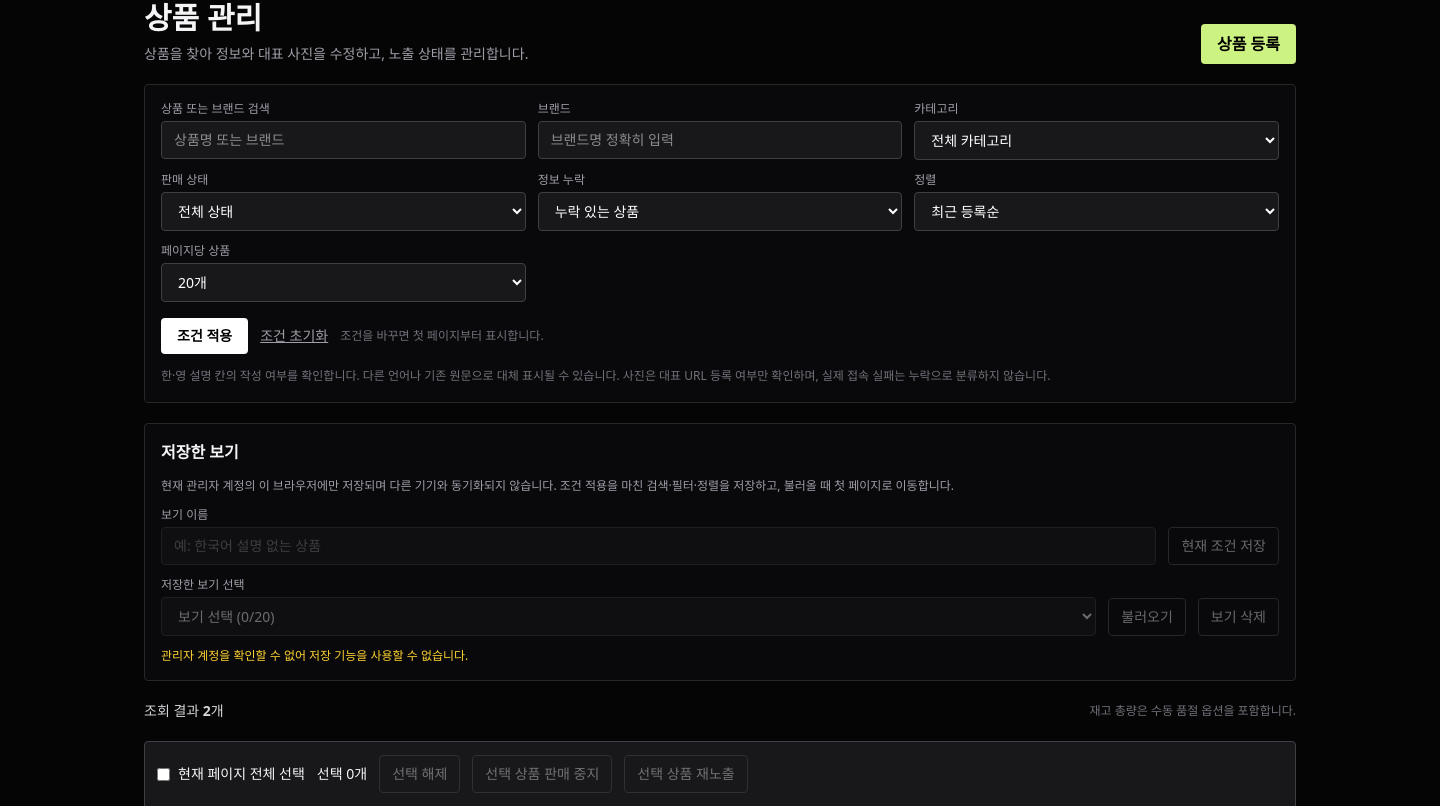
Test: bulk visibility workflow › requires confirmation and cancellation never writes
Click the checkbox labelled "현재 페이지 전체 선택" at (164, 774), box [157,768,170,780]
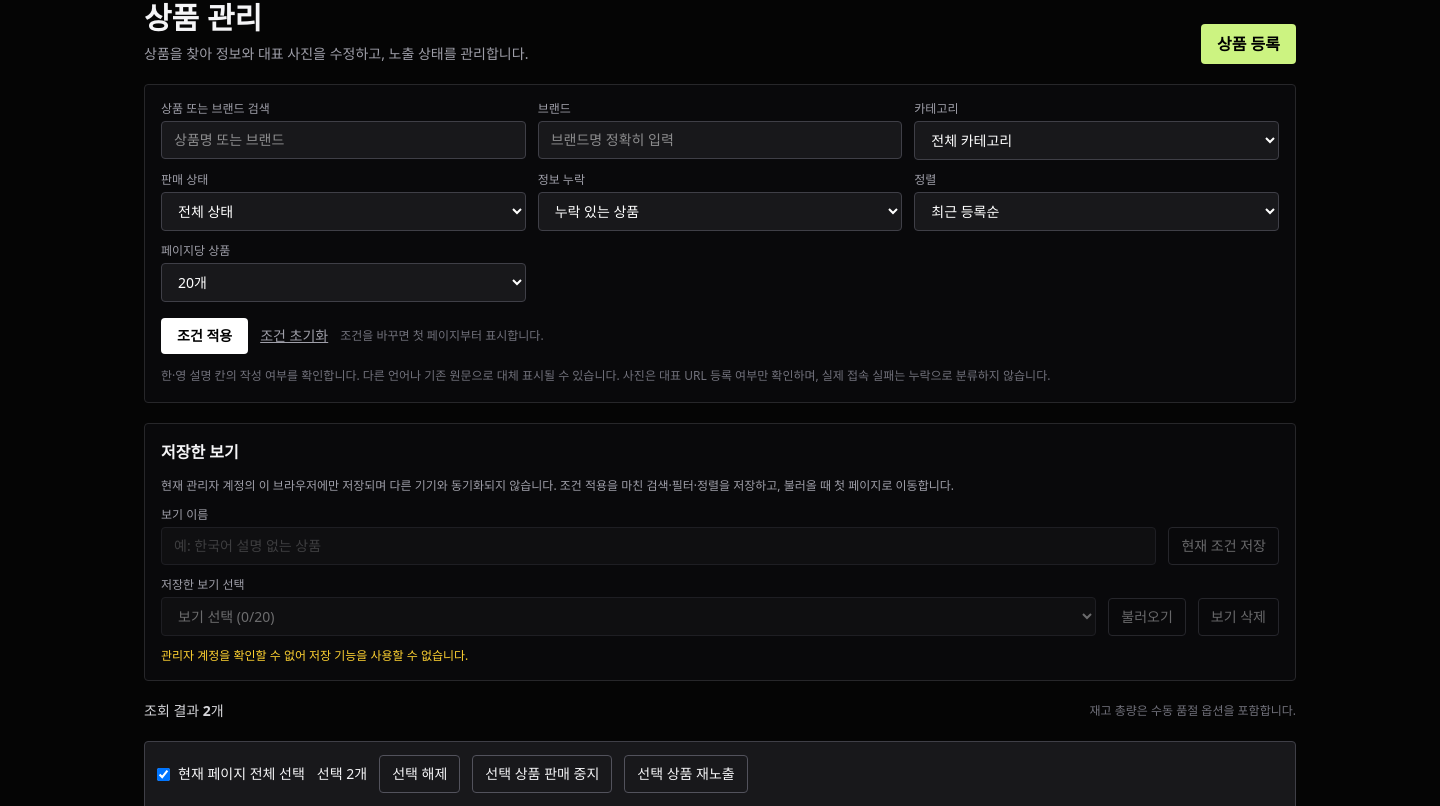
Click the button "선택 상품 판매 중지" at (542, 774), box [472,755,612,793]
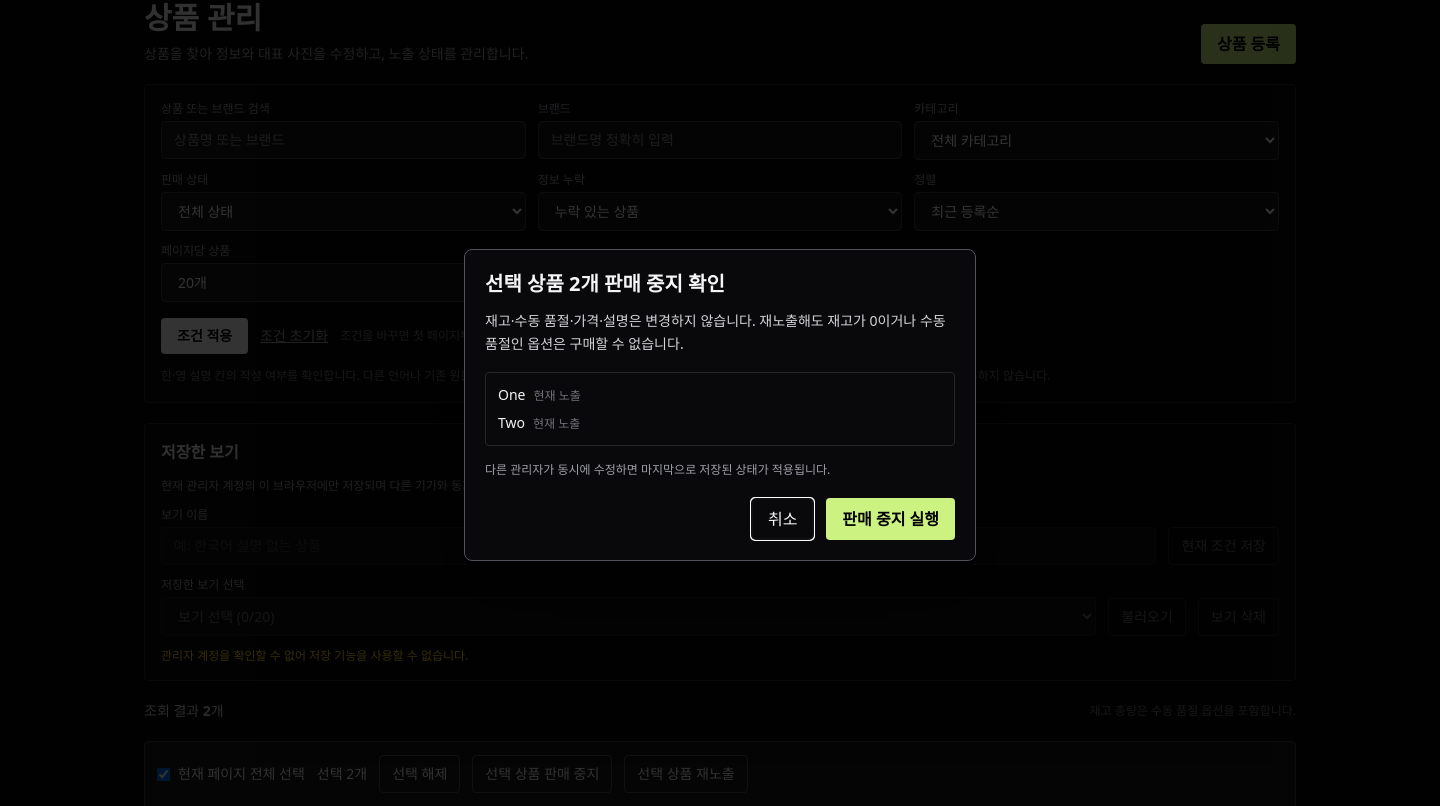
Expected: the list item "One" is shown, [498,385,526,404]
Expected: the list item "Two" is shown, [498,413,525,432]
Click the button "취소" at (783, 519), box [751,498,814,540]
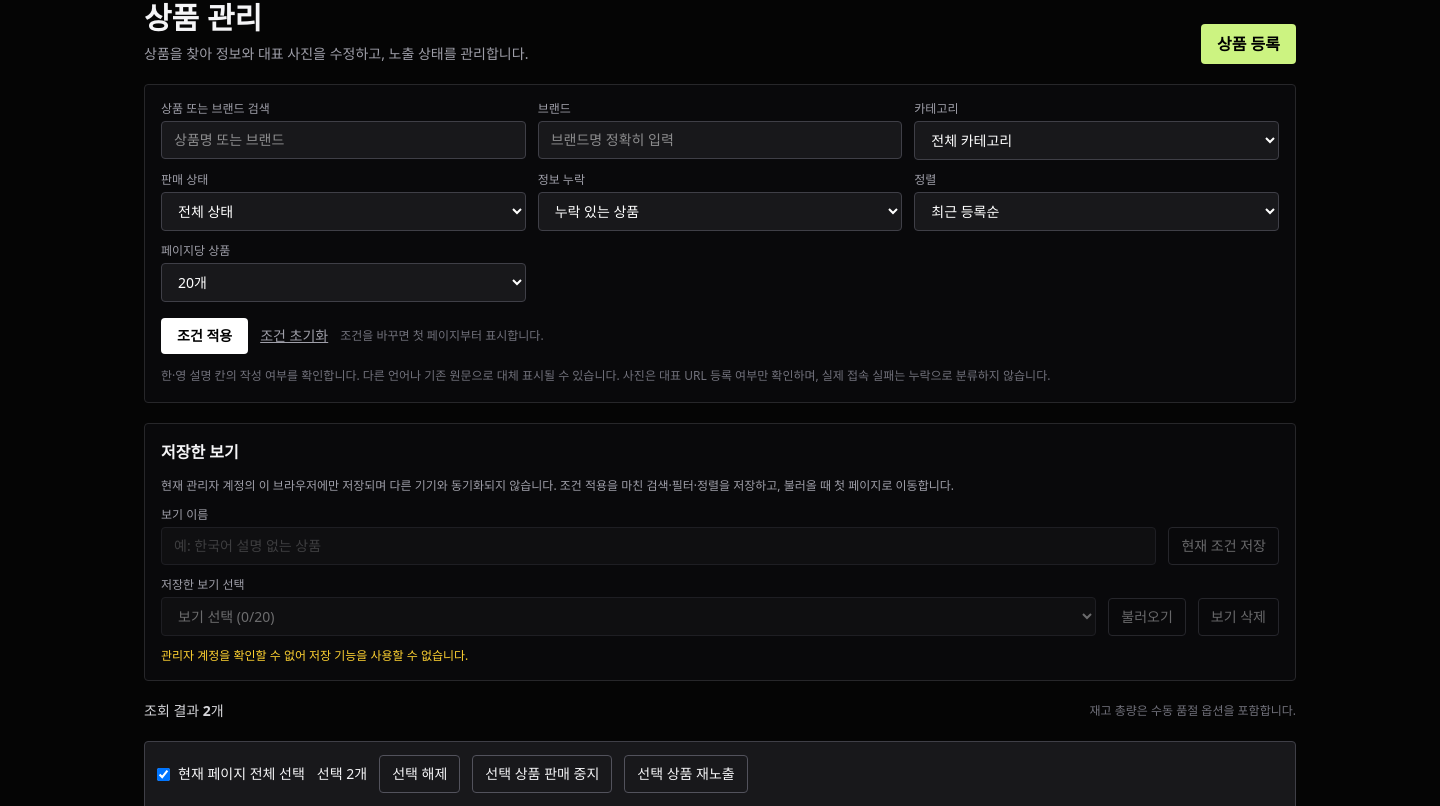
Expected: the dialog is gone
